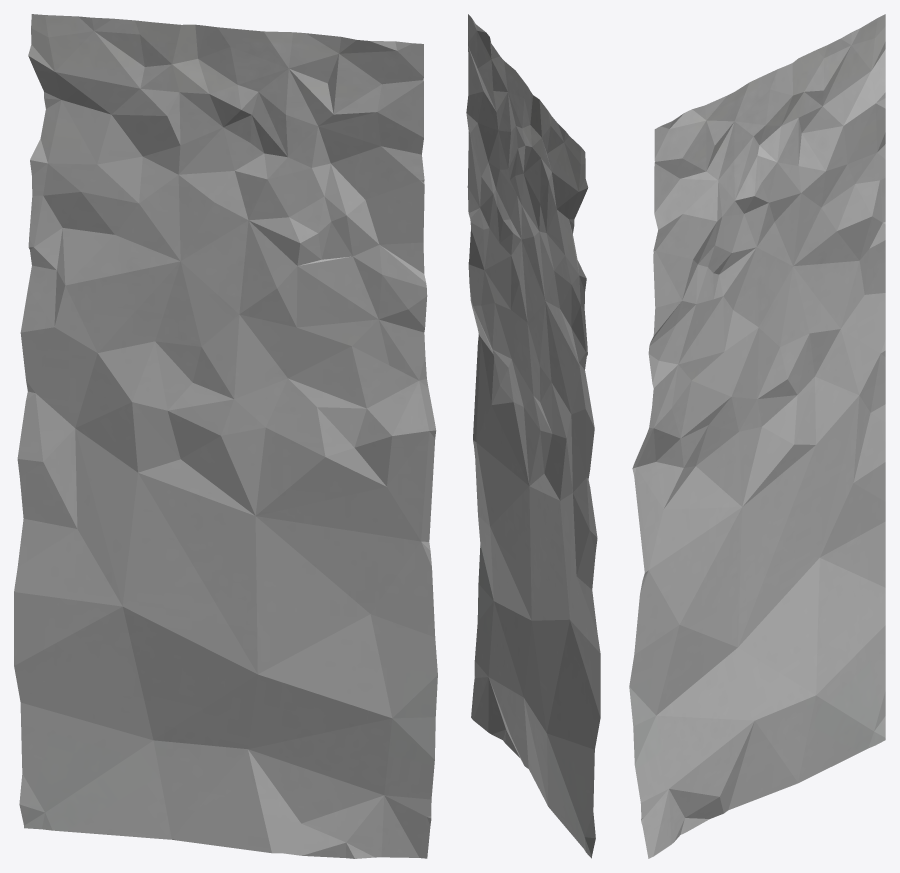
3 views of the same model, side by side, from view 1: azimuth 30°, elevation 25°; view 2: azimuth 150°, elevation 25°; view 3: azimuth 270°, elevation 25° (orthographic). The views are drawn at different scales.
Bounding box in the file's own units: 0.3034 × 0.8373 × 0.2668.
1 material, 1 textured.
